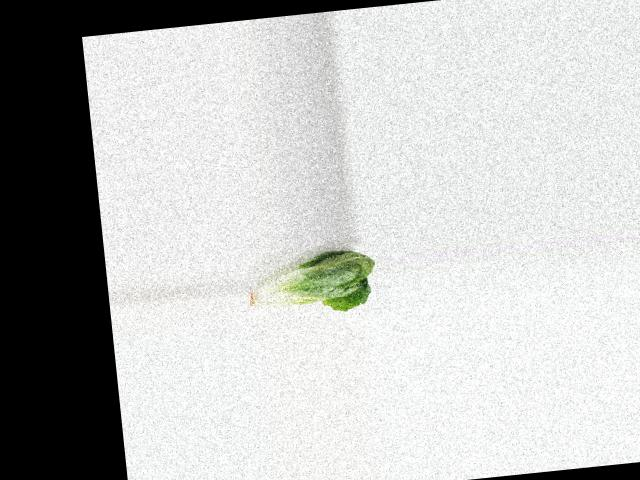lettuce: (239, 243, 380, 322)
